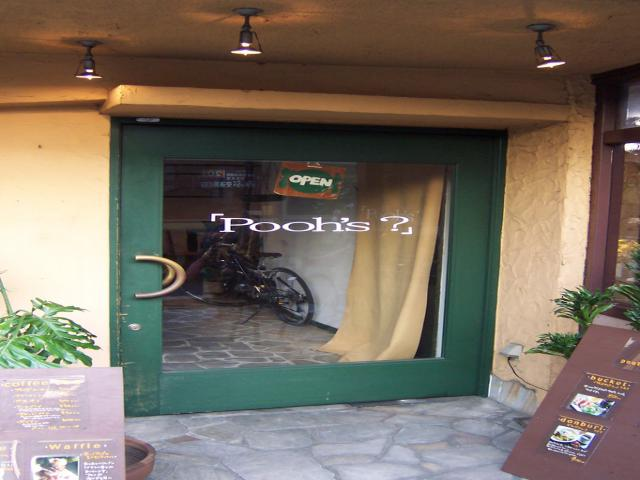Door-handle: (136, 255, 186, 299)
